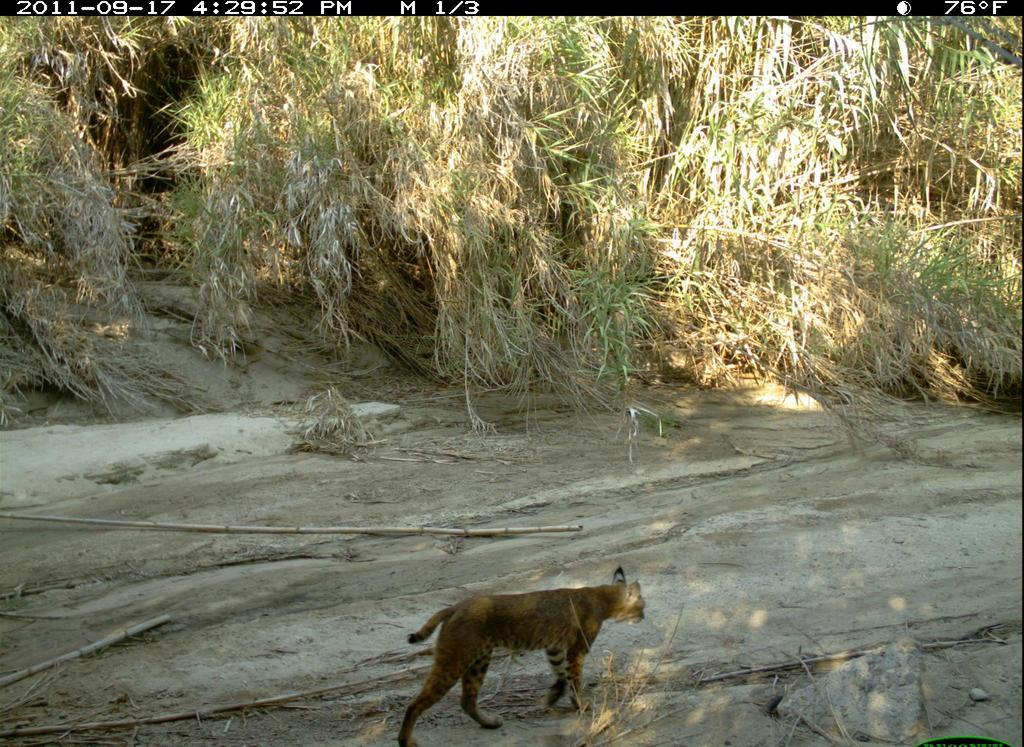bobcat: (396, 560, 649, 738)
